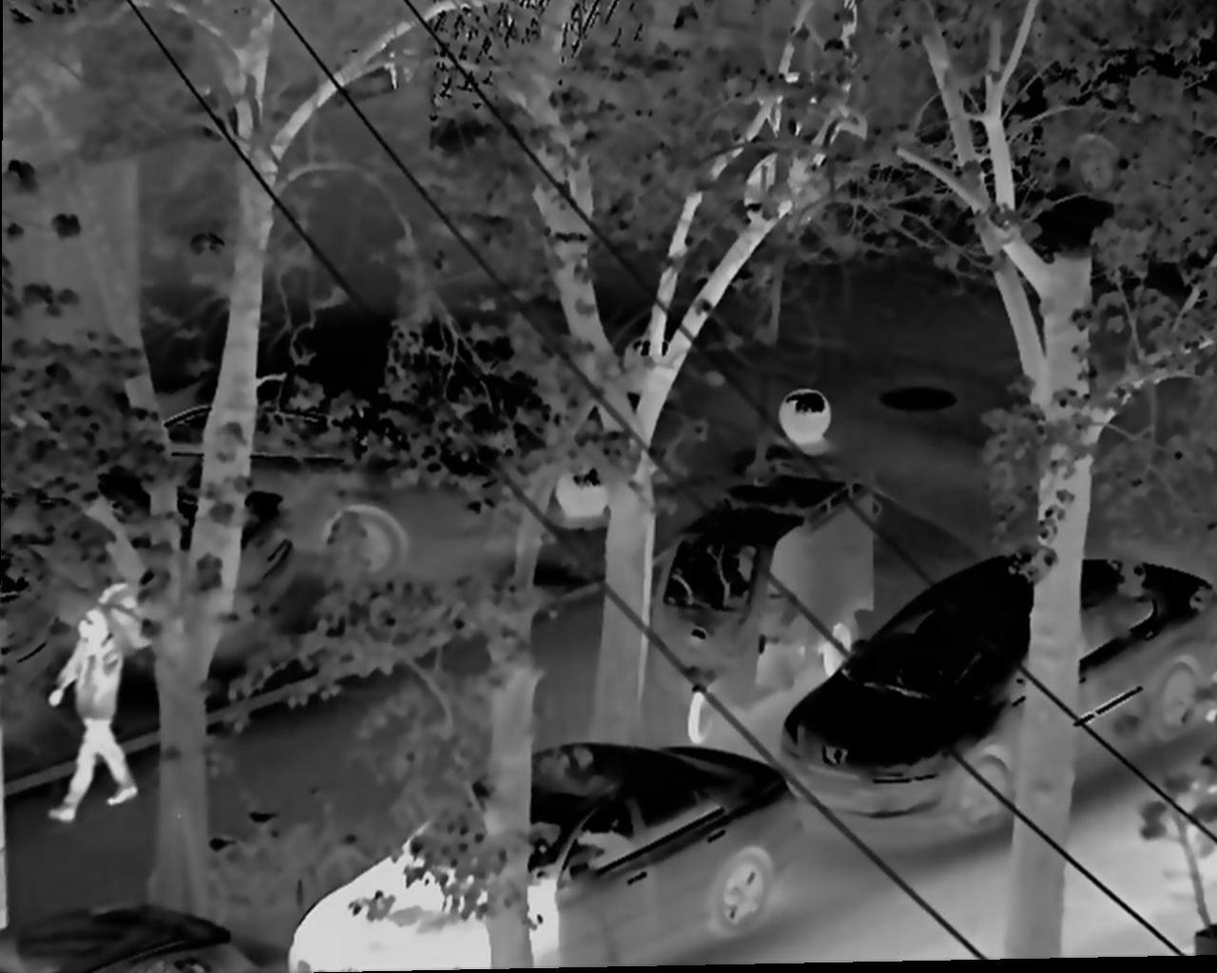person: (44, 607, 142, 826)
